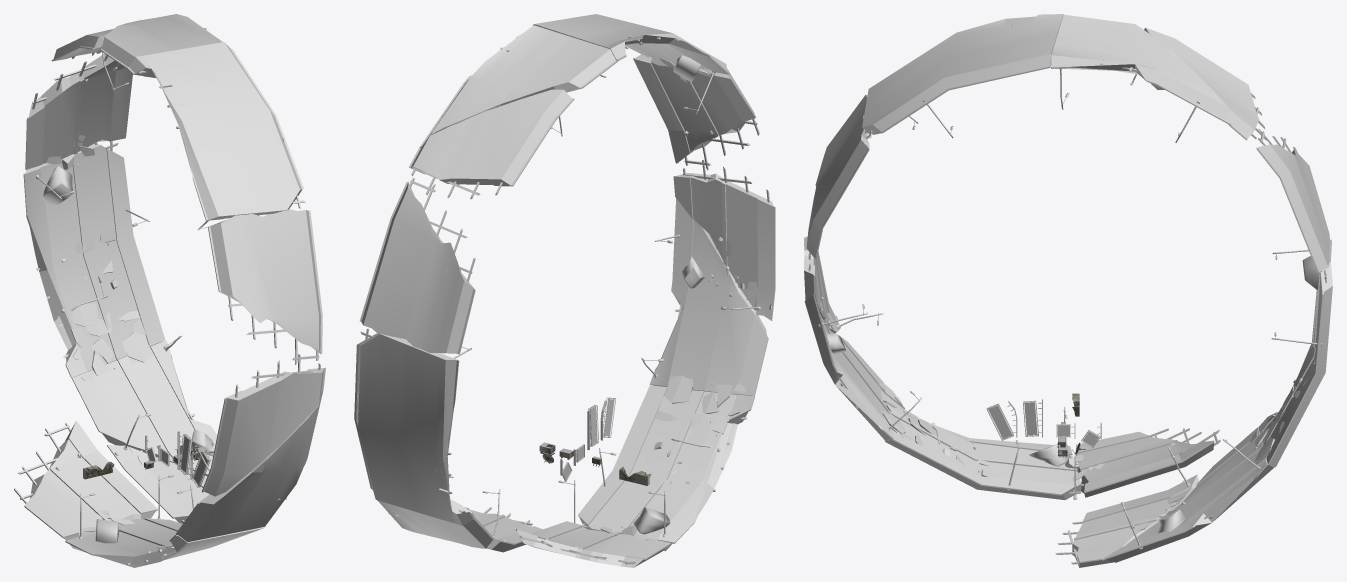
The model's file is CircleRoadTrash.fbx.
3 renders of one model, left to right at view 1: azimuth 30°, elevation 25°; view 2: azimuth 150°, elevation 25°; view 3: azimuth 270°, elevation 25°, orthographic. The views are drawn at different scales.
Visible parts, largest first — view 1: Road_Circle, street_sign_b, street_sign_c; view 2: Road_Circle; view 3: Road_Circle.
Part boxes in pixels (x1=…): Road_Circle: x1=14, y1=14, x2=325, y2=567; street_sign_b: x1=177, y1=431, x2=192, y2=474; street_sign_c: x1=190, y1=445, x2=210, y2=487; Road_Circle: x1=354, y1=14, x2=775, y2=567; Road_Circle: x1=804, y1=14, x2=1332, y2=567.
Bounding box in the file's own units: 2410 × 5084 × 5013.
